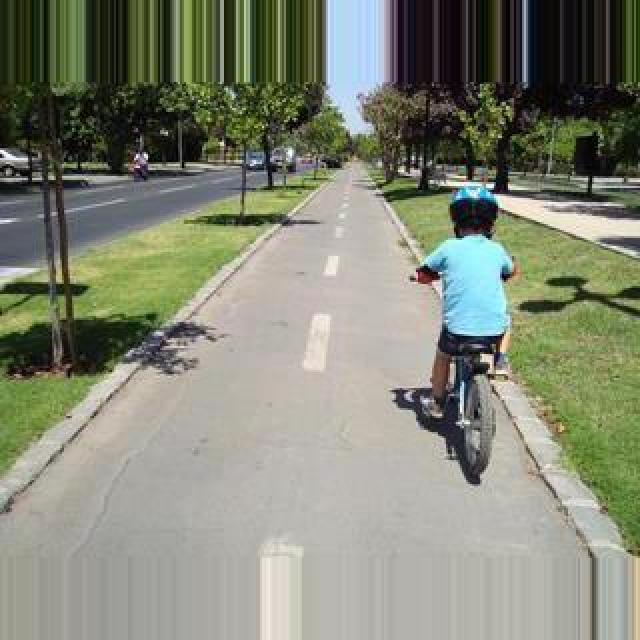Bus-Bike: (0, 146, 36, 182)
MC-Bike: (412, 188, 520, 424), (130, 150, 150, 180)
Person: (438, 338, 506, 484)
